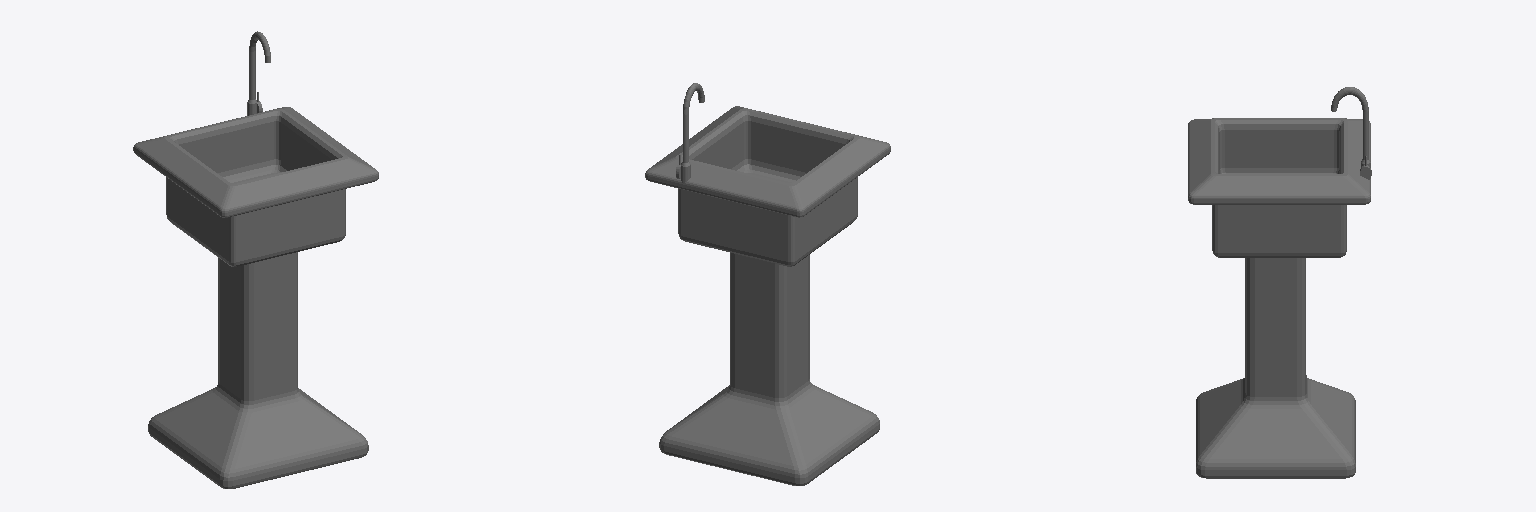
Rendered from sink.obj.
3 views of the same model, side by side, from view 1: azimuth 30°, elevation 25°; view 2: azimuth 150°, elevation 25°; view 3: azimuth 270°, elevation 25° (orthographic).
Visible parts, largest first — view 1: transform70; view 2: transform70; view 3: transform70.
Boxes of the visible parts, x1=… form: transform70: x1=133, y1=31, x2=378, y2=488; transform70: x1=645, y1=83, x2=890, y2=485; transform70: x1=1188, y1=87, x2=1371, y2=478.
Size of the model in its own units: 46.37 by 106 by 46.59.